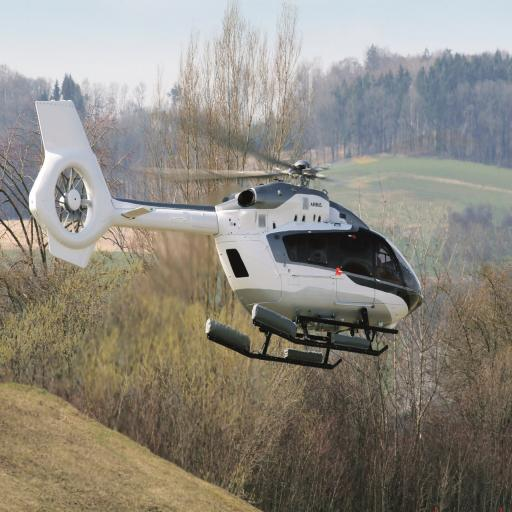helicopter: (31, 102, 424, 370)
